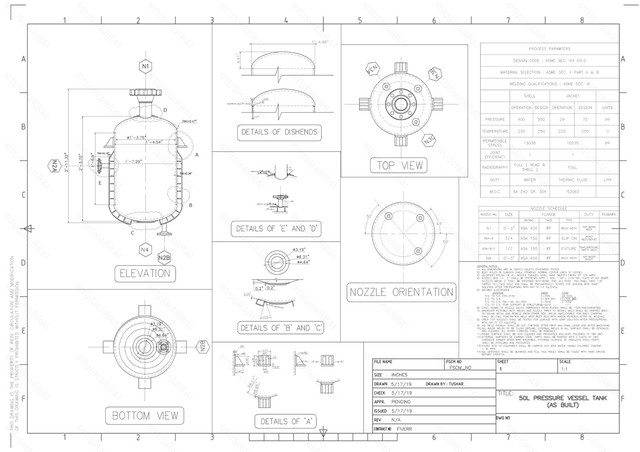nozzle: (119, 78, 172, 123), (142, 224, 180, 247)
